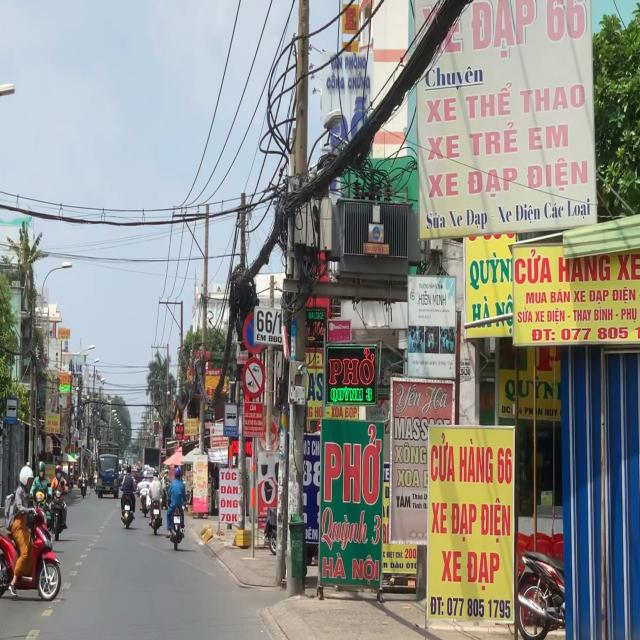Ben xe buyt: (224, 402, 238, 436)
Cam con lai: (242, 355, 266, 399)
Cam do: (243, 312, 268, 354)
